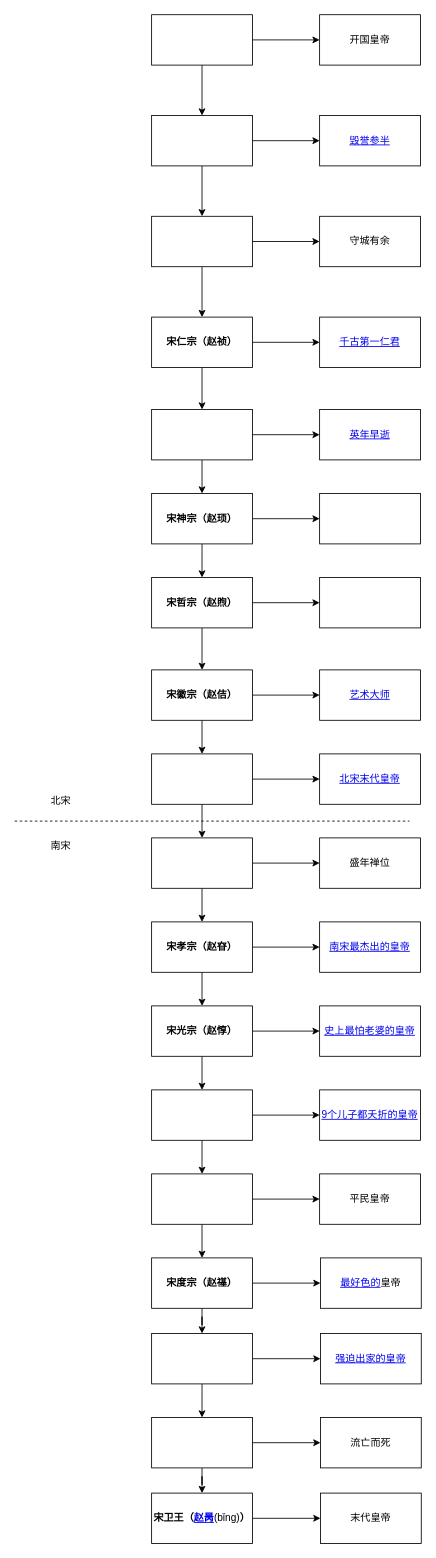
Image size: 436x1558. Some labels were removed from this diagram. The shapes that lost their labels are listed below. From the top down, each one's centre as x and y in pixels, then its label:
At [201,39]: "宋太祖（赵匡胤）".
At [201,140]: "宋太宗（ 赵光义 ）".
At [201,241]: "宋真宗 （ 赵恒 ）".
At [201,434]: "宋英宗（ 赵曙 ）".
At [369,518]: "改革，好心办坏事".
At [369,602]: "北宋最短命的皇帝".
At [201,778]: "宋钦宗（ 赵桓 ）".
At [201,862]: "宋高宗 （ 赵构 ）".
At [201,1114]: "宋宁宗（ 赵扩 ）".
At [201,1198]: "宋理宗 （ 赵昀 ）".
At [201,1358]: "宋恭帝（ 赵隰 ）".
At [201,1442]: "宋端宗（ 赵昰 ）".
